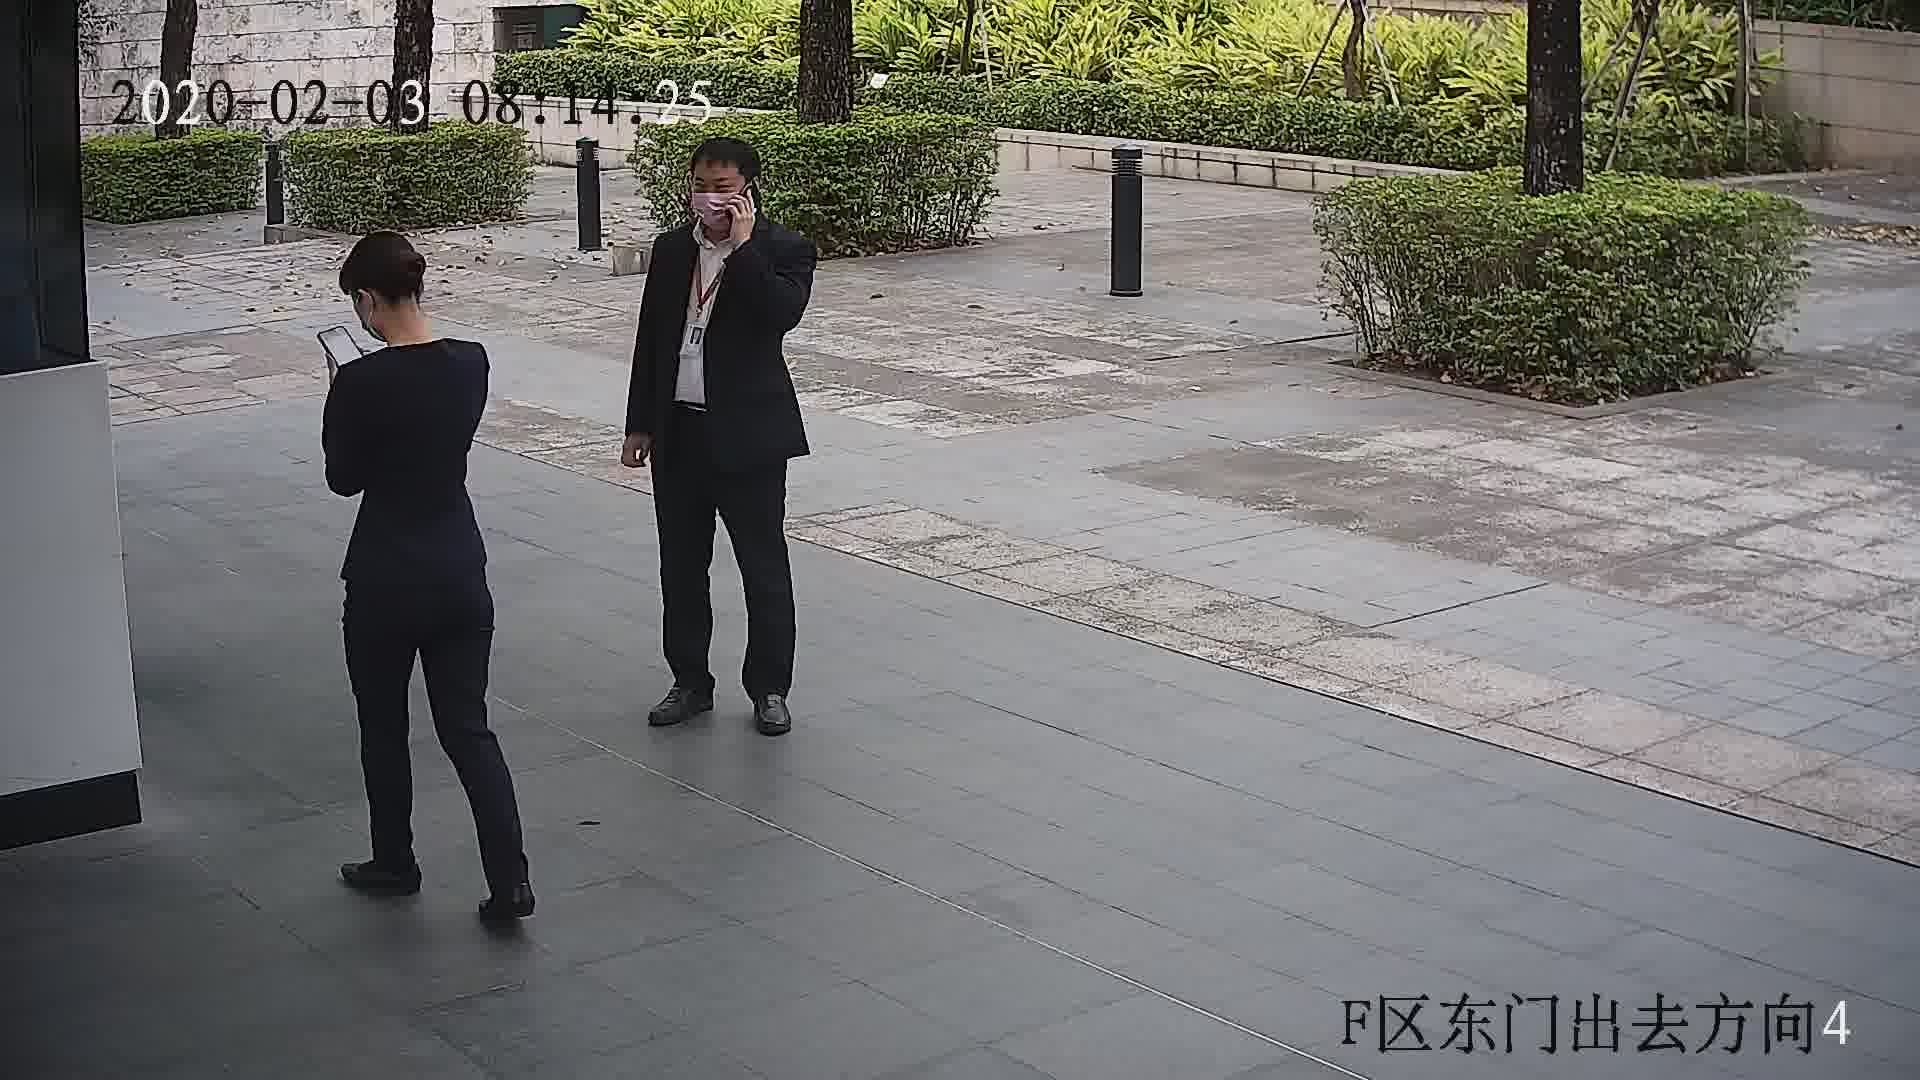face: (694, 165, 751, 222)
mask: (687, 188, 739, 221)
person: (318, 233, 488, 420), (647, 136, 814, 285)
